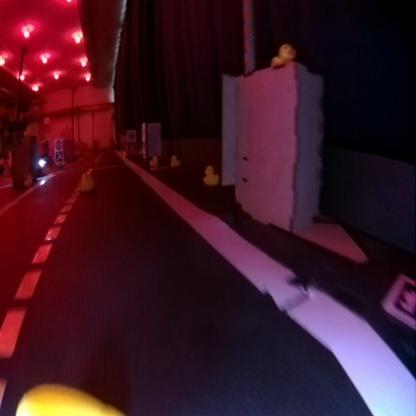Duckie: (16, 383, 118, 413), (271, 43, 295, 65), (203, 164, 218, 184), (81, 172, 93, 190), (148, 154, 158, 166), (170, 155, 179, 166)
QR code: (381, 276, 415, 325)
